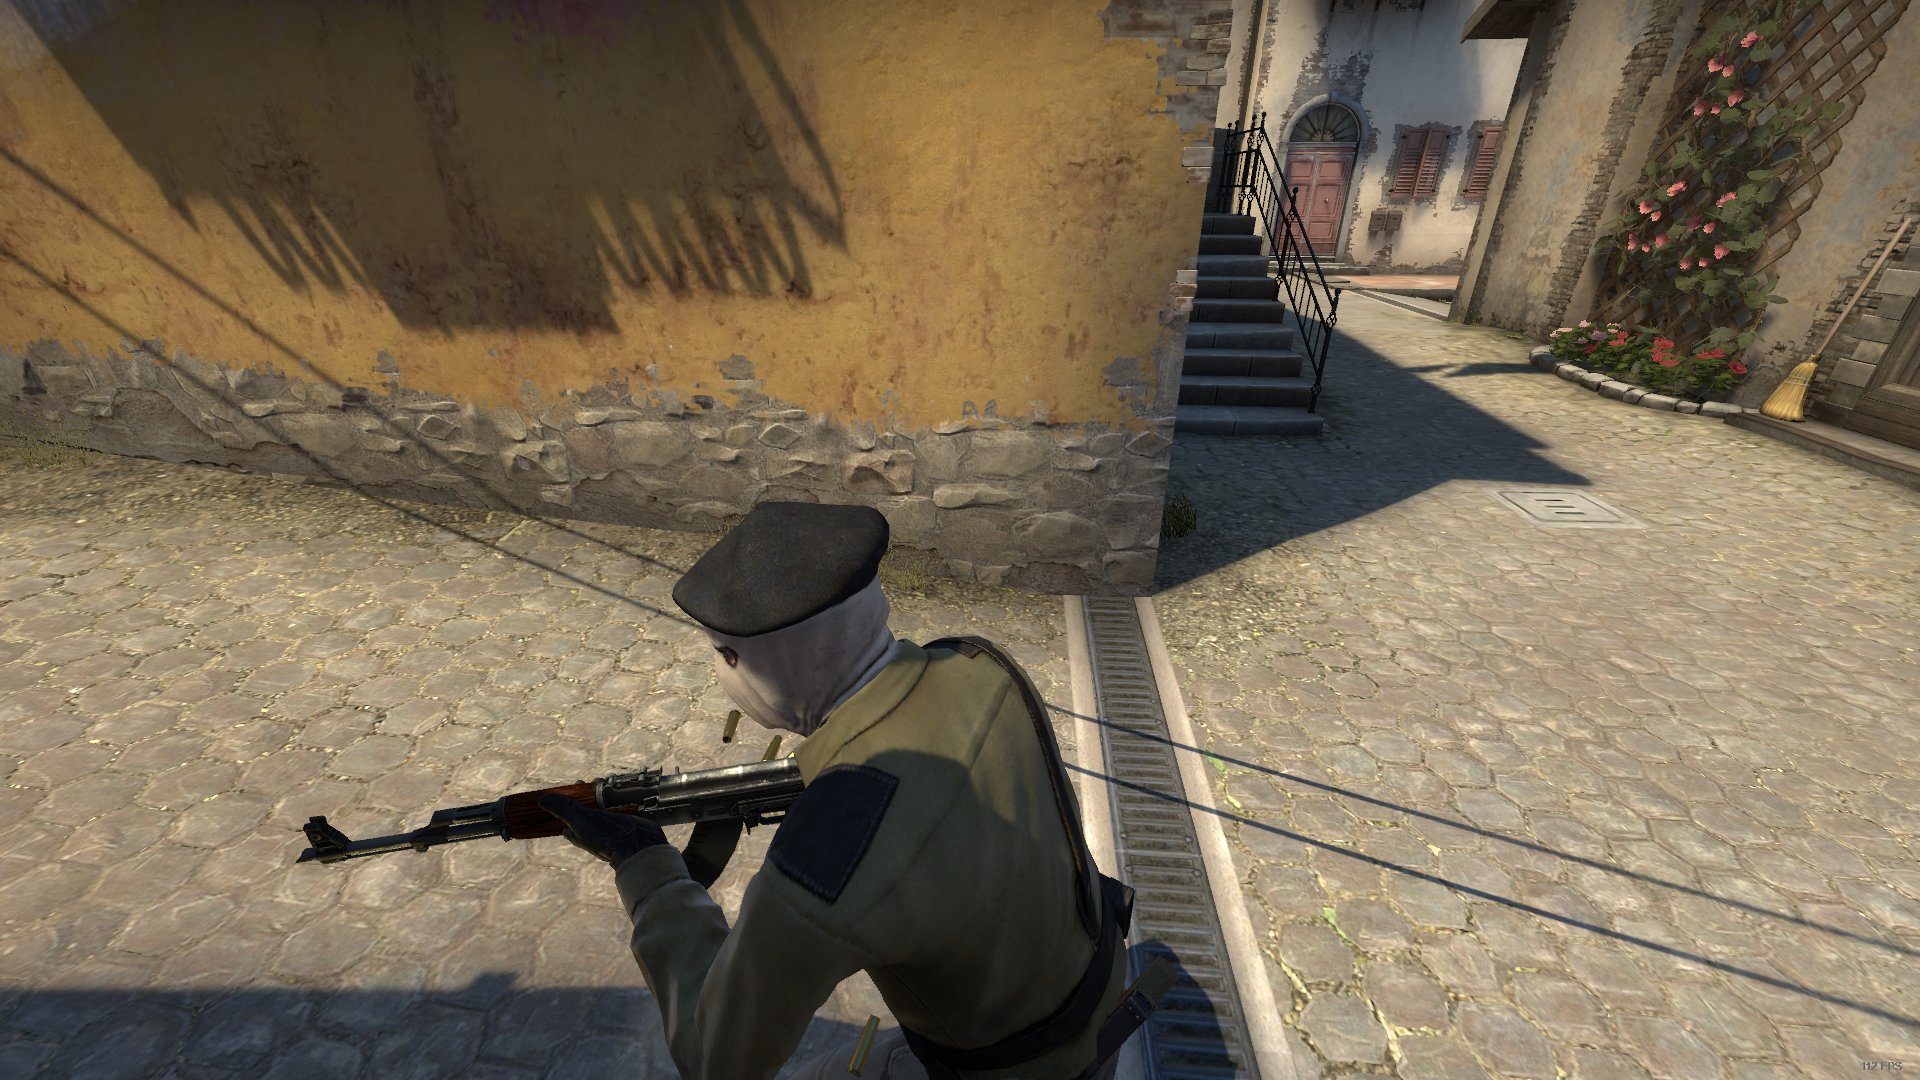t: (545, 500, 1130, 1080)
